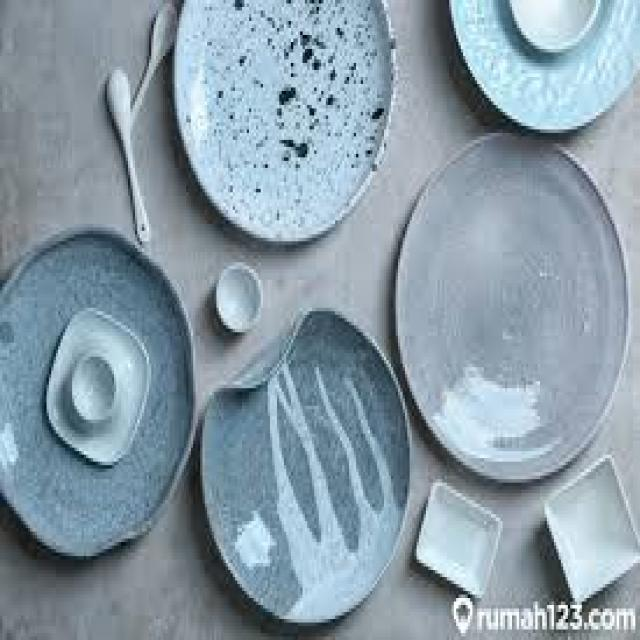Plate: (395, 122, 634, 482), (200, 304, 412, 626), (0, 229, 192, 557), (163, 2, 390, 248)
